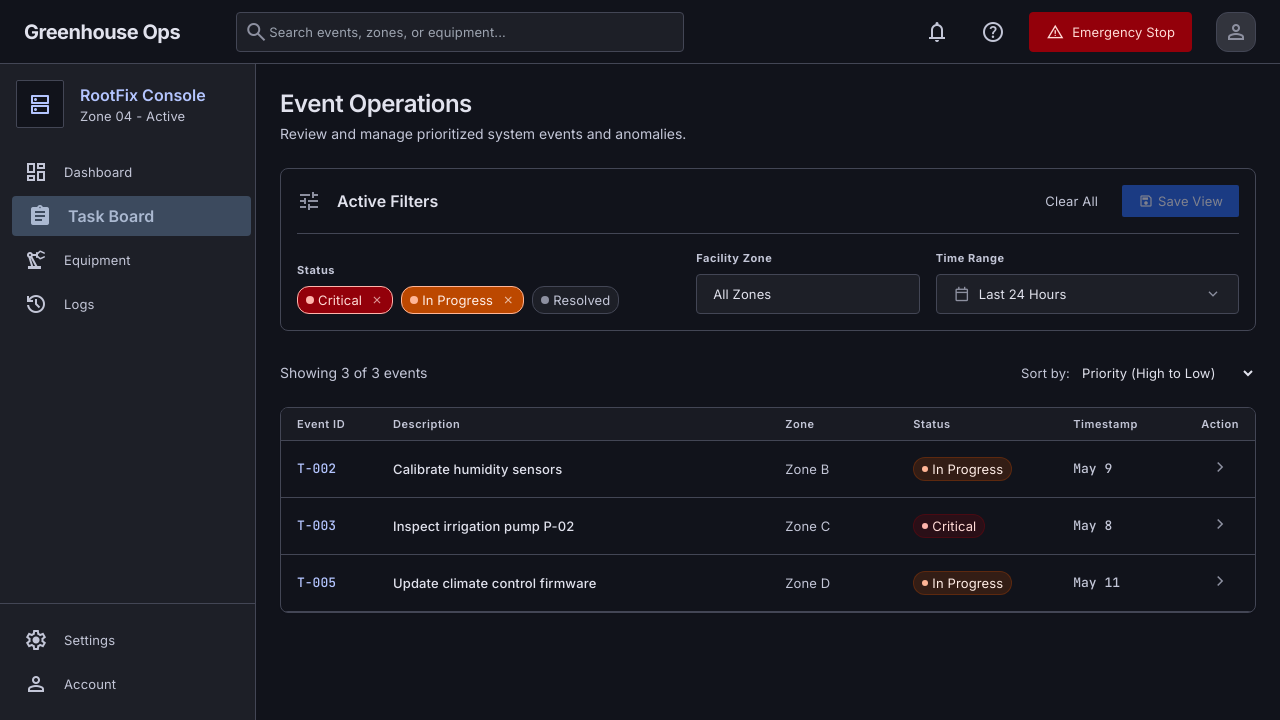
Test case: FilteredOverview screen › toggles status filter chips
The image size is (1280, 720).
// Click Resolved to include completed tasks
Click the text "Resolved". click: (576, 300)
box: 532,286 -> 619,314
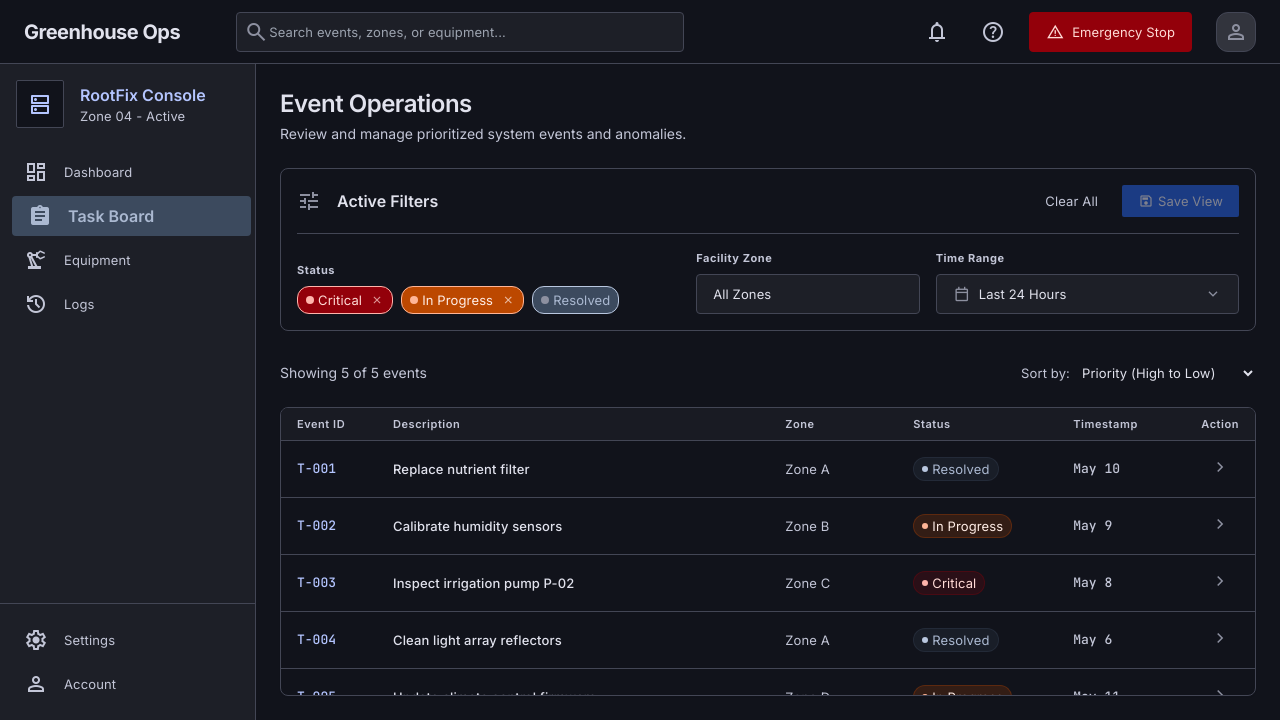
Expected: the text "Clean light array reflectors" is shown, 377,612 -> 769,668
